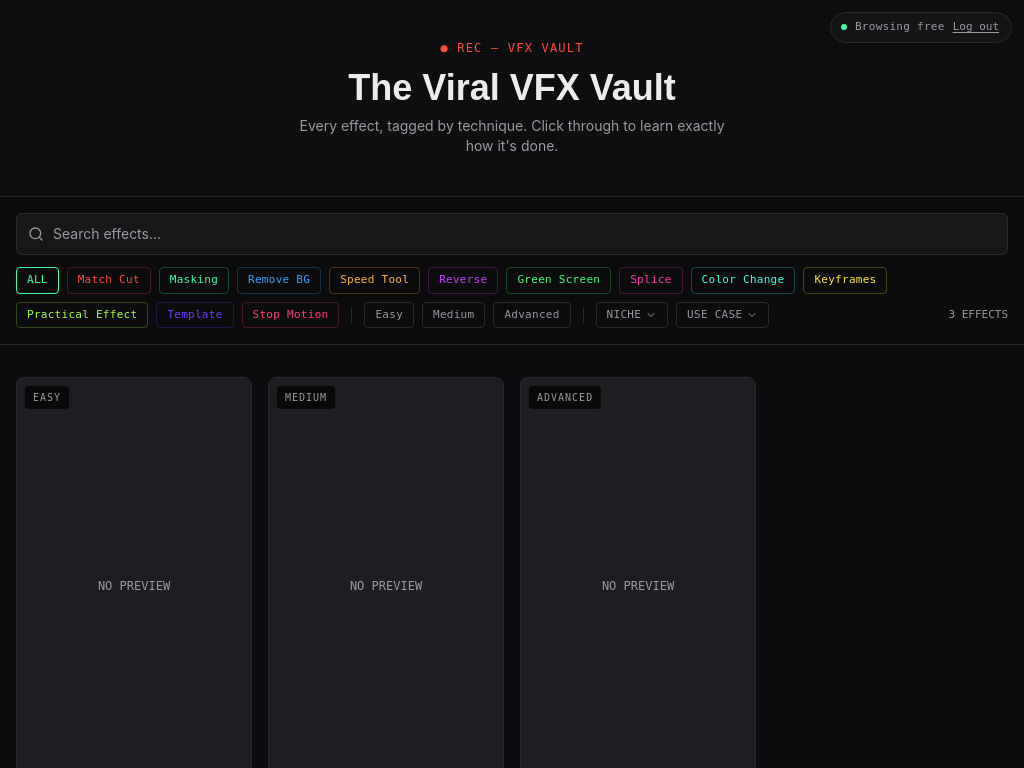
niche / use_case multi-select filters › Clear resets a dropdown's selections
Click the button "NICHE" at x=632, y=315, box x1=596 y1=302 x2=668 y2=328
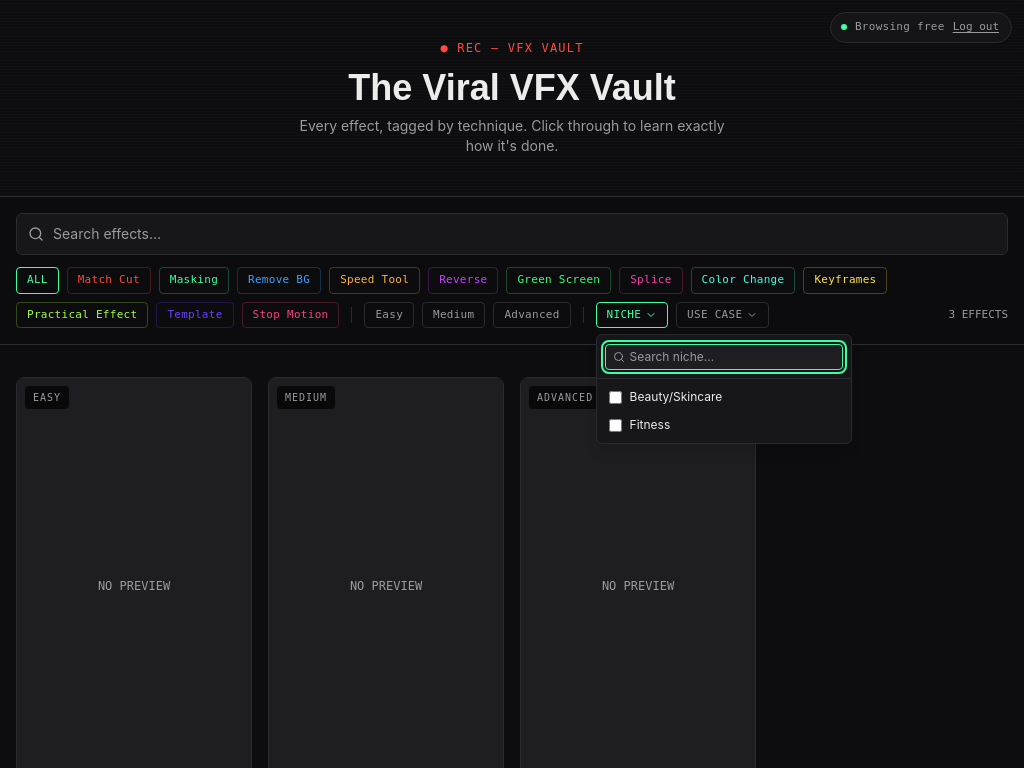
Click the checkbox labelled "Fitness" at x=615, y=425, box x1=609 y1=418 x2=622 y2=432
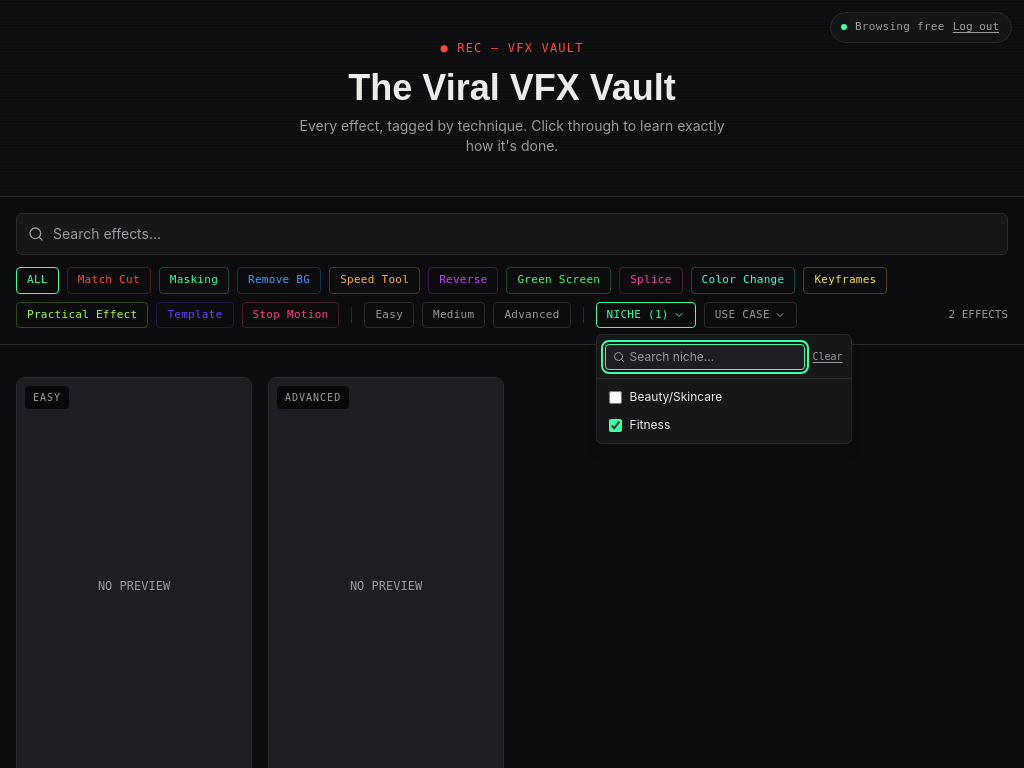
Click the button "Clear" at x=828, y=356, box x1=812 y1=349 x2=843 y2=364
(page scrolled)
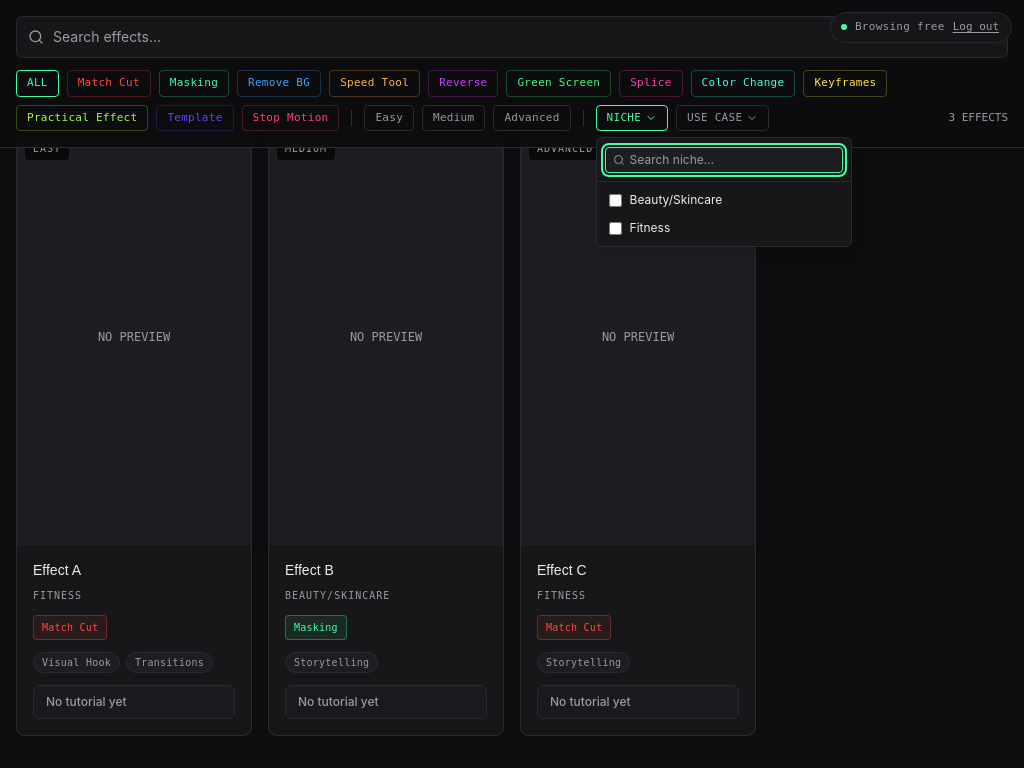
Expected: the heading "Effect B" is shown, x1=285 y1=562 x2=334 y2=578
